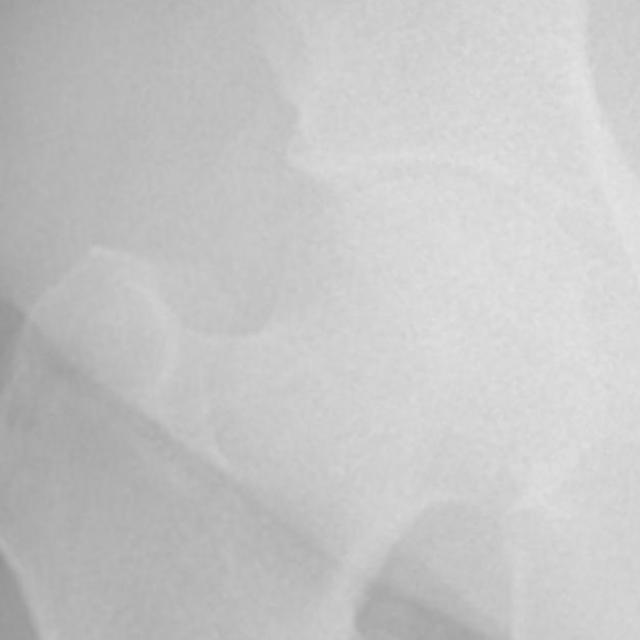Fitted_femural_head: (357, 176, 432, 357)
